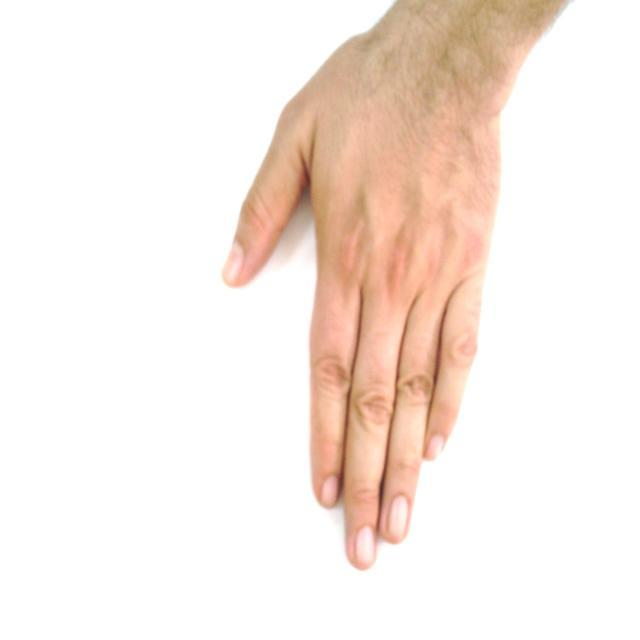Fingernail: (388, 497, 408, 540), (354, 528, 375, 568), (224, 245, 244, 280), (322, 478, 339, 507), (427, 436, 444, 459)
